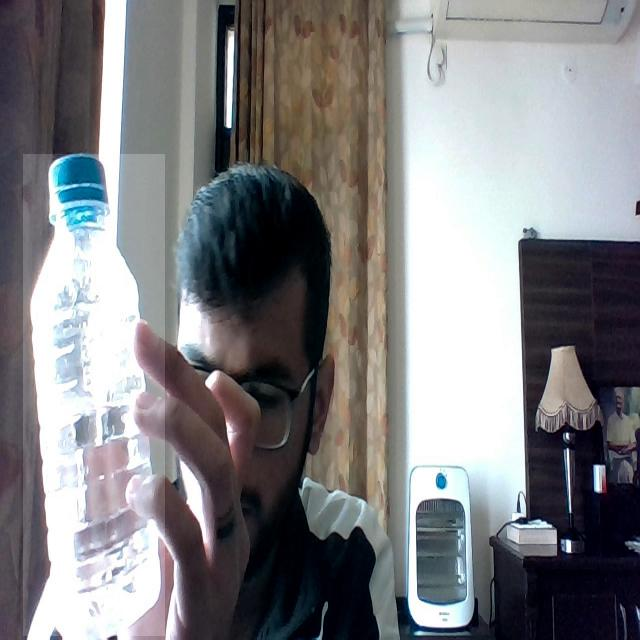half-bottle: (23, 154, 165, 636)
